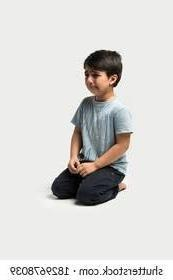Human: (49, 43, 139, 216)
